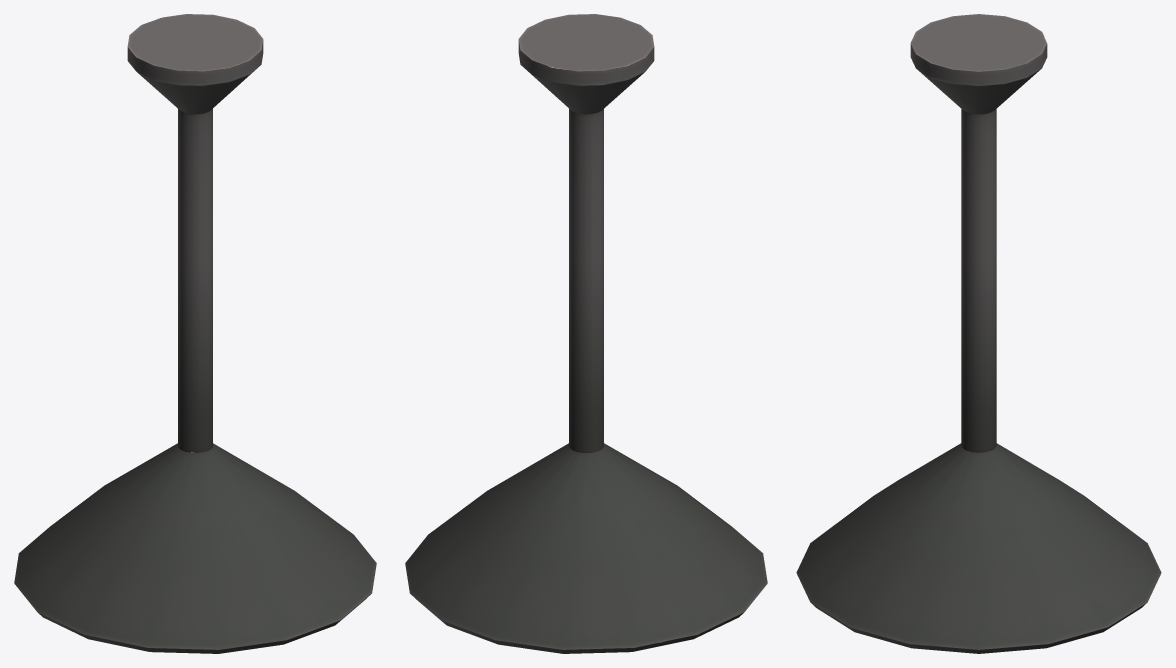
Rendered from AslanHouse_WallLamp.fbx.
3 renders of one model, left to right at view 1: azimuth 30°, elevation 25°; view 2: azimuth 150°, elevation 25°; view 3: azimuth 270°, elevation 25°, orthographic.
Parts seen in each view (by area): view 1: CeilingLamp.001; view 2: CeilingLamp.001; view 3: CeilingLamp.001.
Boxes of the visible parts, bbox=[...] form: CeilingLamp.001: bbox=[14, 14, 376, 653]; CeilingLamp.001: bbox=[405, 14, 767, 653]; CeilingLamp.001: bbox=[796, 14, 1161, 653].
Bounding box in the file's own units: 52.55 × 85.39 × 52.55.
Materials: 1 (1 with a texture image).
